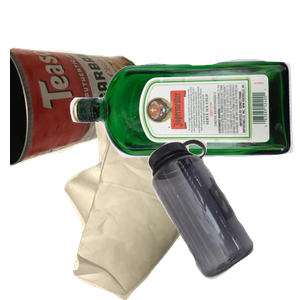glass: (67, 56, 300, 206)
metal: (10, 44, 151, 203)
plastic: (145, 136, 300, 300)
trash: (62, 120, 251, 300)
